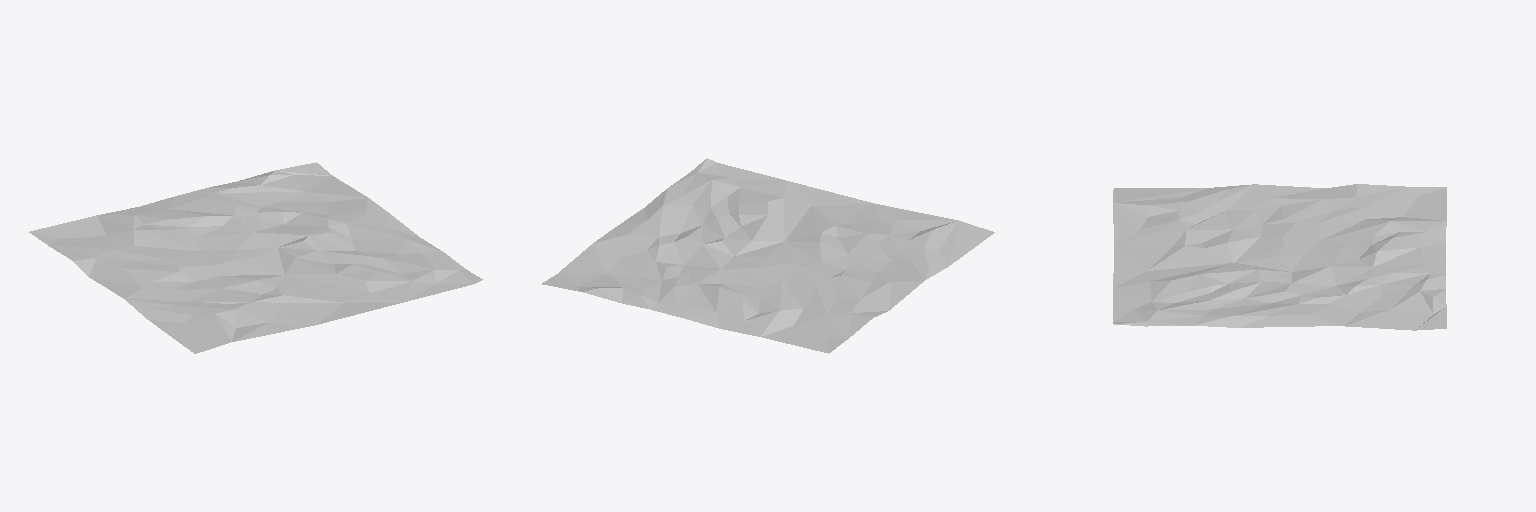
Rendered from burntTerrainFlatDecimated.obj.
3 views of the same model, side by side, from view 1: azimuth 30°, elevation 25°; view 2: azimuth 150°, elevation 25°; view 3: azimuth 270°, elevation 25° (orthographic).
Visible parts, largest first — view 1: burntTerrainFlat; view 2: burntTerrainFlat; view 3: burntTerrainFlat.
Boxes of the visible parts, box(x1,y1,x2,y2) form: burntTerrainFlat: box(29, 162, 482, 353); burntTerrainFlat: box(542, 158, 994, 353); burntTerrainFlat: box(1113, 184, 1446, 330).
Size of the model in its own units: 4003 by 113 by 4001.